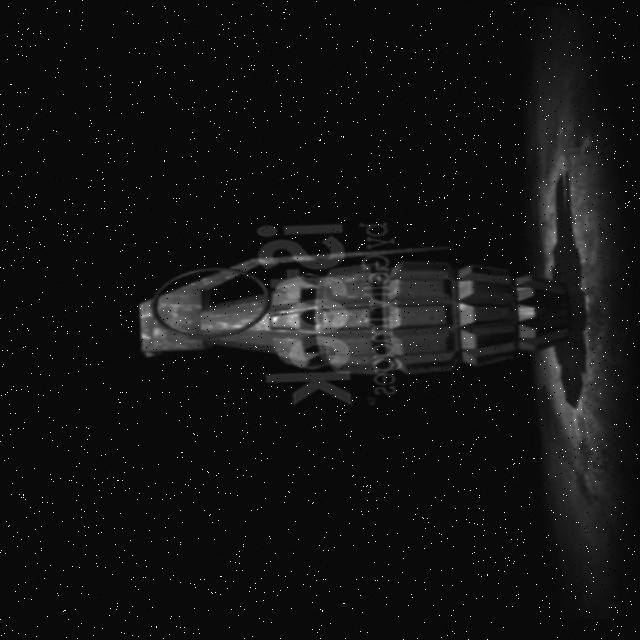grenade: (119, 198, 580, 431)
